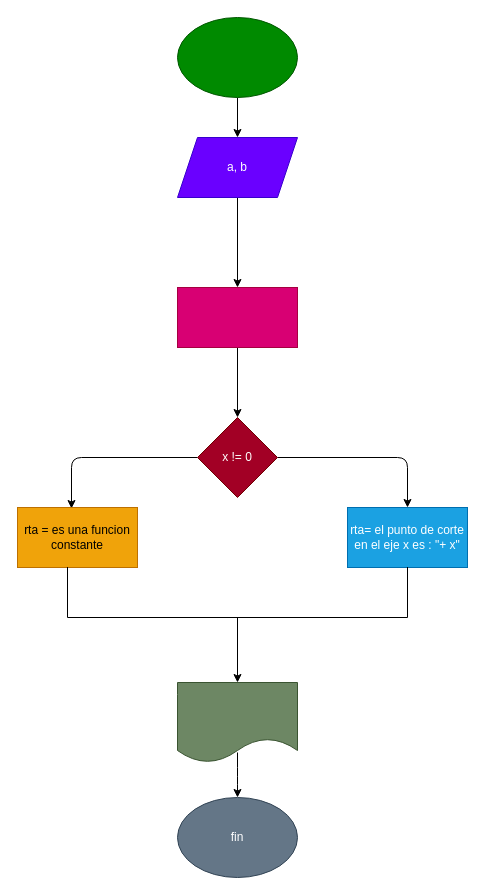
Some shapes in this 485 by 895 pixel diagram are drawn without their labels. The centre of each missing label's shape, as x and y in pixels:
"inicio" belongs at [237,57].
"rta" belongs at [237,722].
"x = -b / a" belongs at [237,317].
